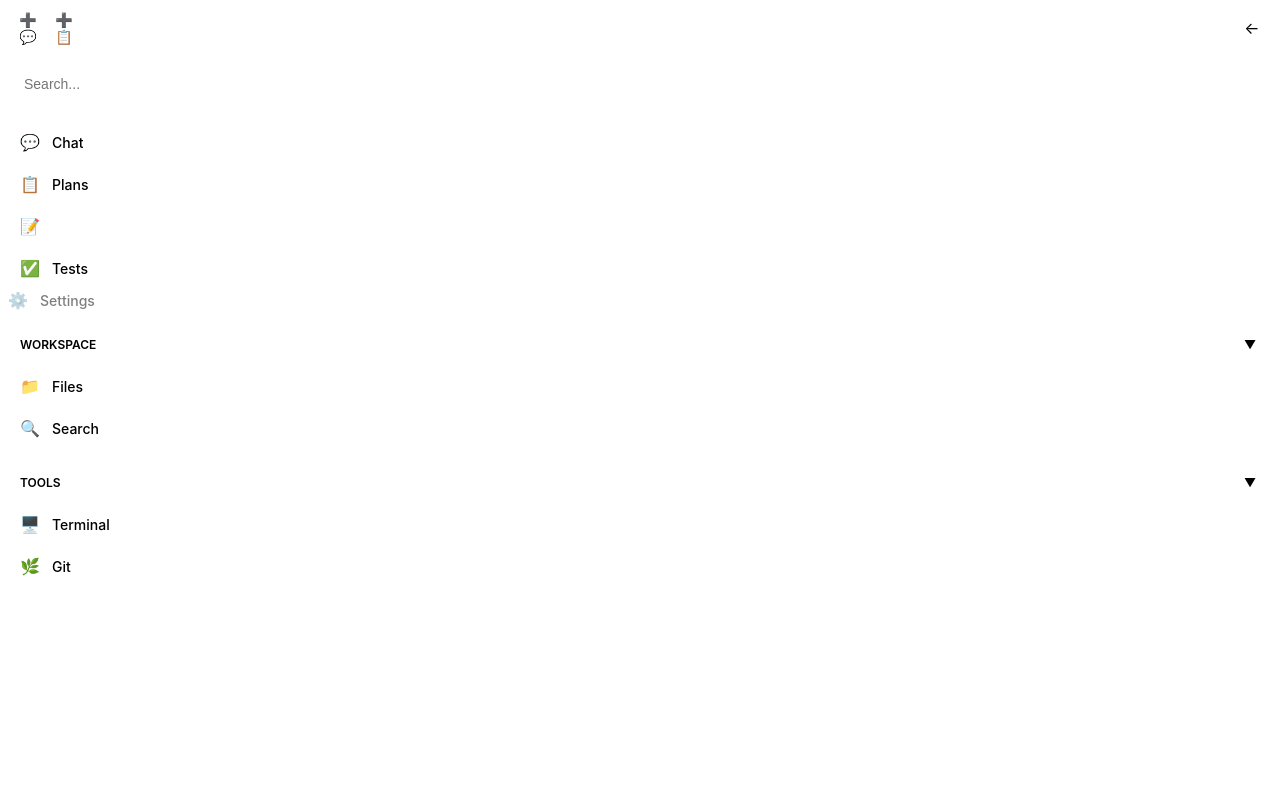
Sidebar › Sections › collapses sections independently
What coordinates should you click on to do the following:
click the button named "Toggle Workspace section"
I would click on:
 (1250, 344)
Its box is x1=1240 y1=334 x2=1260 y2=354.
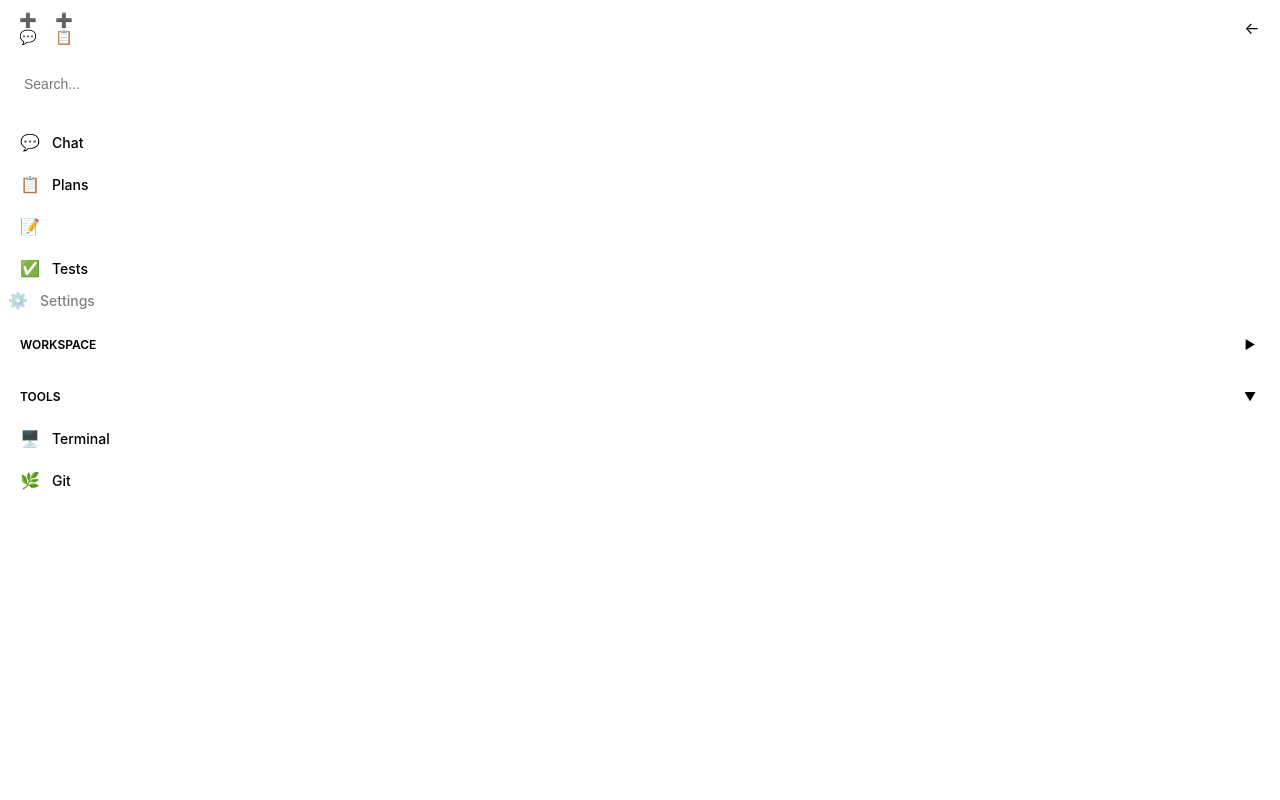
Expected: the link "🖥️ Terminal" is shown, x1=20 y1=428 x2=110 y2=448
Now the link "Files" is gone
